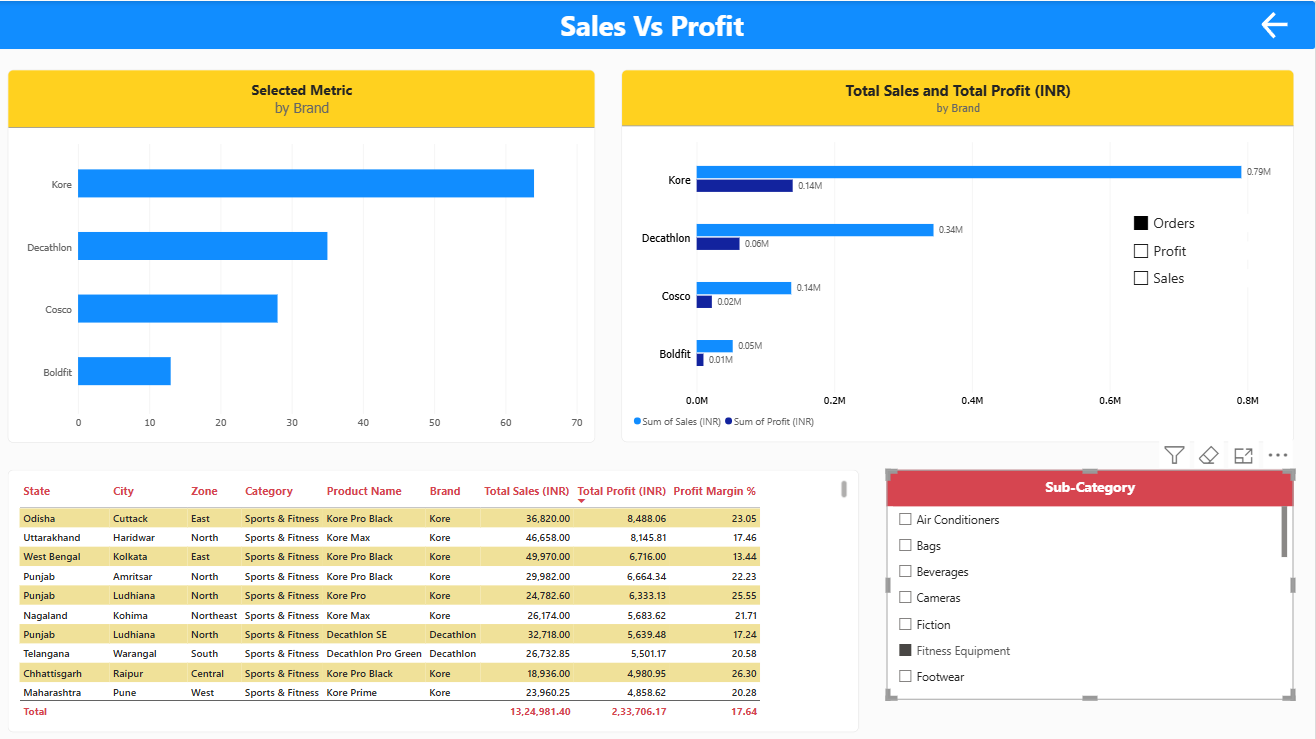

This screenshot's page, from the dashboard's own definition file:
{"tool":"powerbi","page":{"name":"Sales Vs Profit","canvas":[1920,1080],"ordinal":2},"visuals":[{"type":"tableEx","fields":{"Values":["Dim Customer.State","Dim Customer.City","Dim Customer.Zone","Dim Product.Category","Dim Product.Product Name","Dim Product.Brand","Sum(Fact Orders.Sales (INR))","Sum(Fact Orders.Profit (INR))","Fact Orders.Profit Margin %"]},"box":[27.1,678.6,1232.4,380],"z":0},{"type":"clusteredBarChart","title":"Total Sales and Total Profit (INR)","fields":{"Category":["Dim Product.Brand"],"Y":["Sum(Fact Orders.Sales (INR))","Sum(Fact Orders.Profit (INR))"]},"box":[915.7,99.5,973.6,539.3],"z":1000},{"type":"actionButton","box":[0,0,1920,70],"z":2000},{"type":"slicer","fields":{"Values":["Metric Selection.Metric"]},"box":[1639.6,291.4,200,155],"z":3000},{"type":"clusteredBarChart","fields":{"Category":["Dim Product.Brand"],"Y":["Metric Selection.Selected Metric"]},"box":[27.5,100,850,540],"z":4000},{"type":"slicer","title":"Sub-Category","fields":{"Values":["Dim Product.Sub-Category"]},"box":[1299.3,678.6,589.9,333],"z":5000}]}

Visuals, with their boxes in screenshot pixels (x1, y1, x2, y2), scaled from the page's 1920x1080 canvas onto the 1316x739 screenshot:
tableEx - Dim Customer.State x Dim Customer.City: Rect(19, 464, 863, 724)
"Total Sales and Total Profit (INR)" clusteredBarChart: Rect(628, 68, 1295, 437)
actionButton: Rect(0, 0, 1315, 48)
slicer - Metric Selection.Metric: Rect(1124, 199, 1261, 305)
clusteredBarChart - Dim Product.Brand x Metric Selection.Selected Metric: Rect(19, 68, 601, 438)
"Sub-Category" slicer: Rect(891, 464, 1295, 692)
